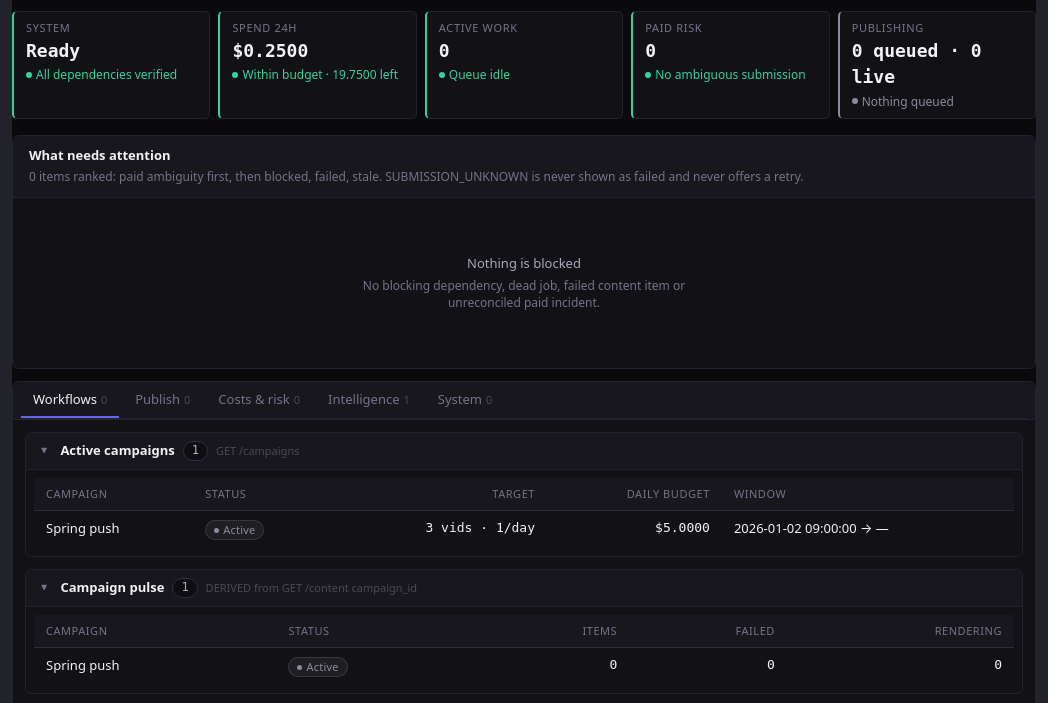
CommandCenter › names an experiment winner only when the backend completed one, and shows derived learnings only
Click the tab "Intelligence1". click: {"x": 369, "y": 400}
box: [316,382,422,418]
(page scrolled)
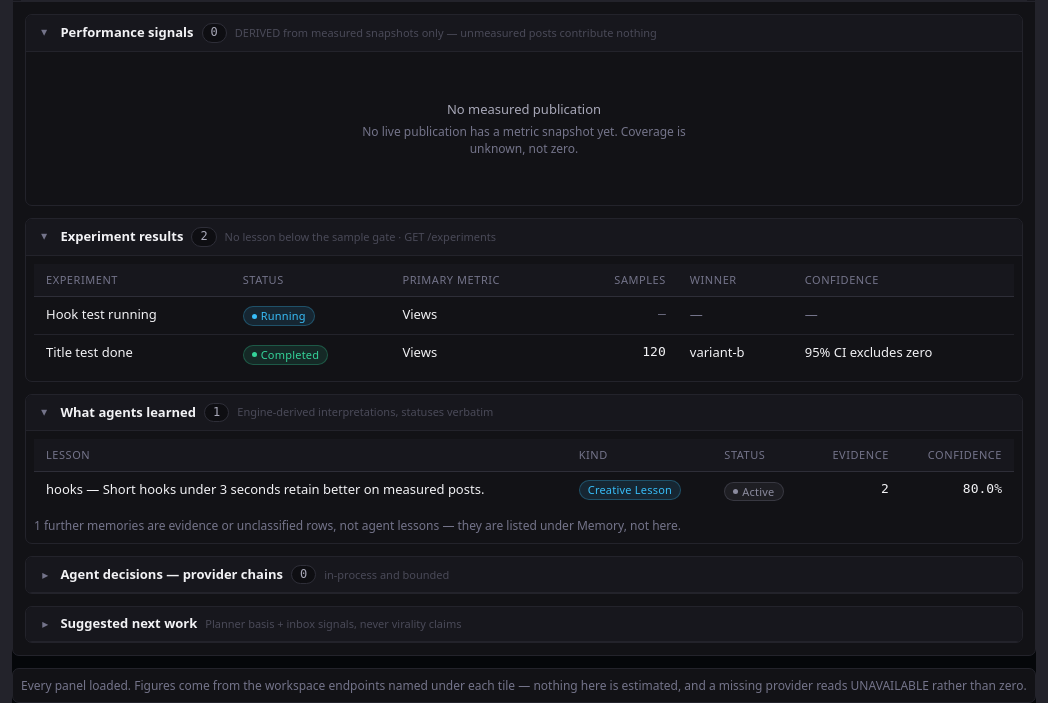
Check: the heading "Experiment results" is shown, box [60,229,183,245]
Check: the text "variant-b" is shown, box [678,335,793,373]
Check: the heading "What agents learned" is shown, box [60,405,196,420]
